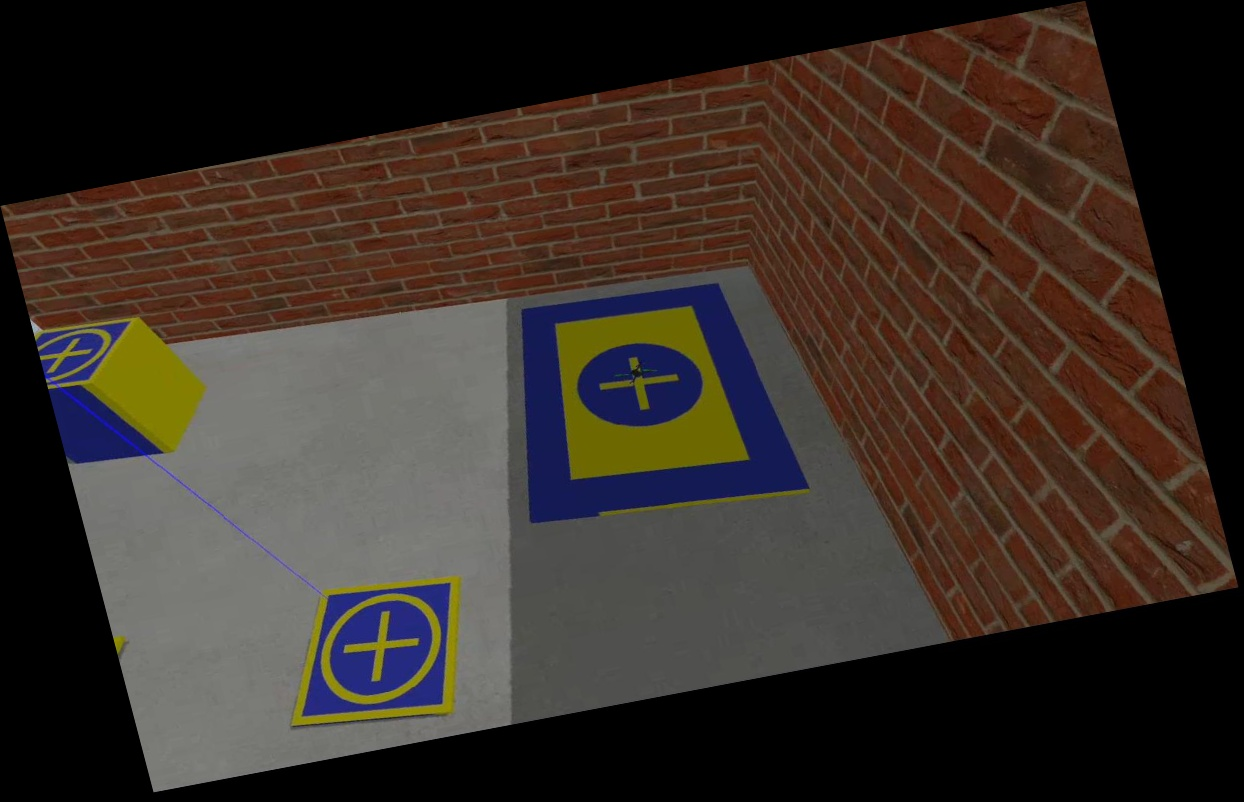large_base: (476, 258, 817, 546)
small_base: (263, 564, 493, 738), (32, 308, 158, 403)
